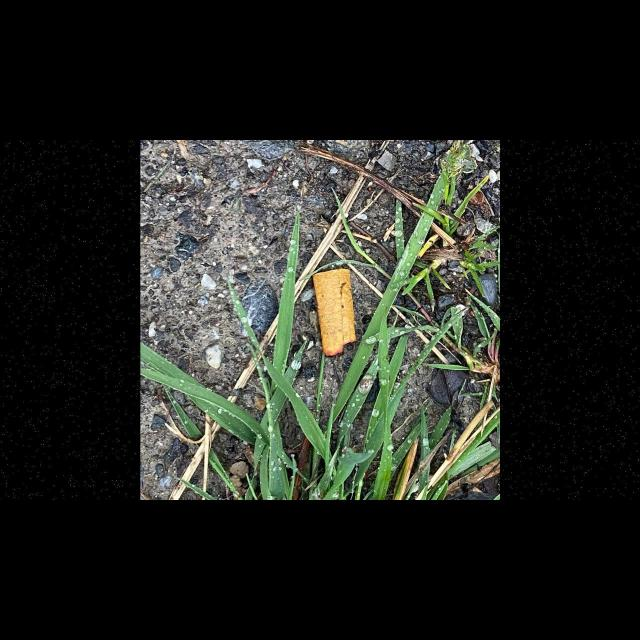cigarette: (311, 268, 357, 360)
